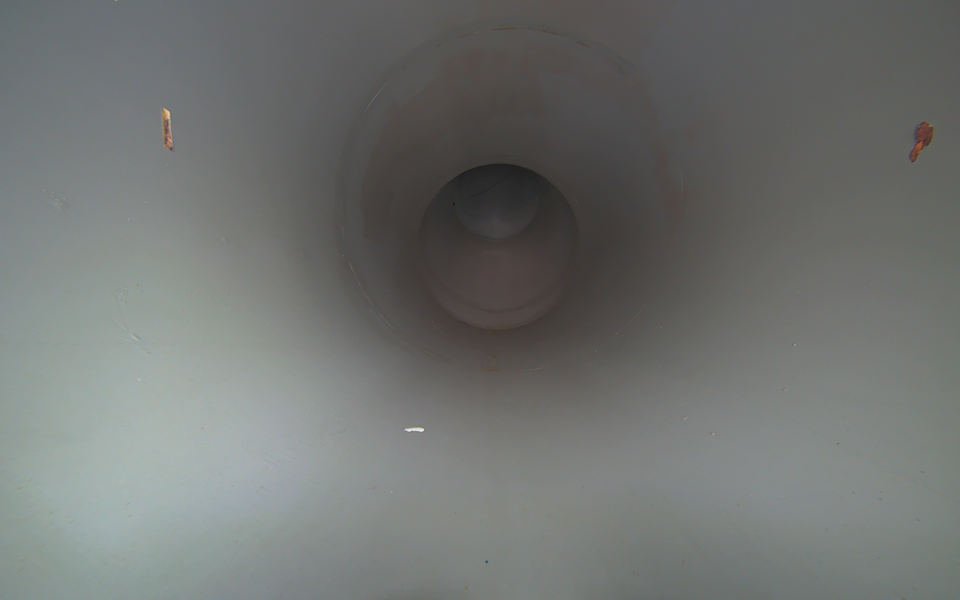circle1: (411, 160, 587, 335)
circle2: (448, 151, 545, 240)
